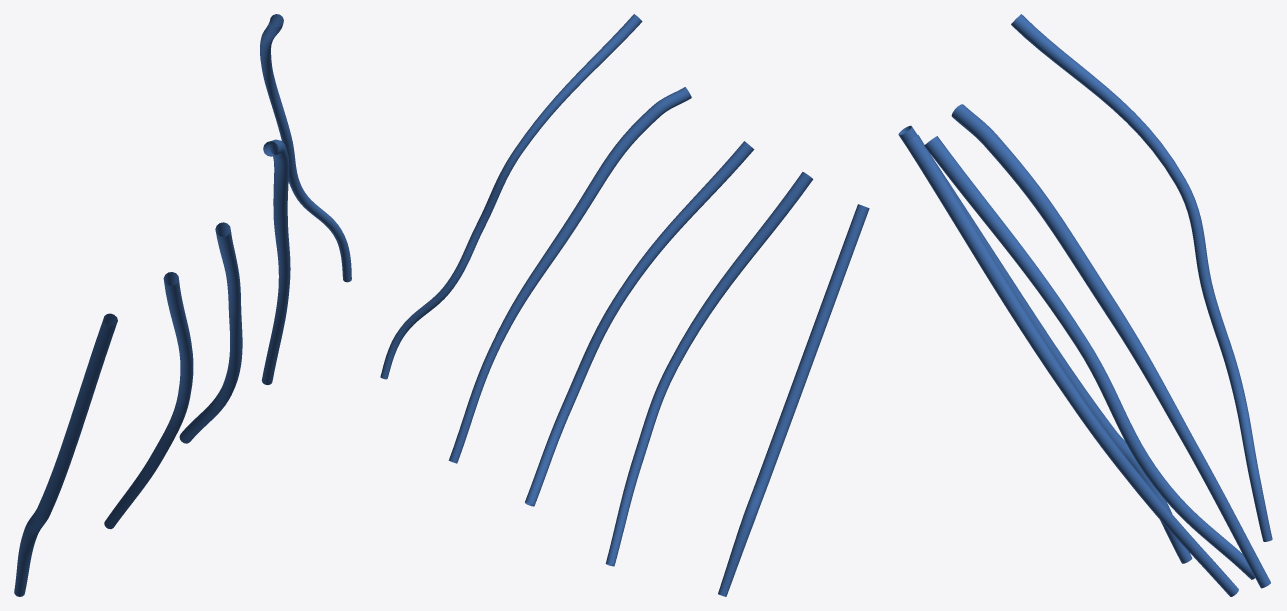
The picture shows the model from 3 angles, left to right: view 1: azimuth 30°, elevation 25°; view 2: azimuth 150°, elevation 25°; view 3: azimuth 270°, elevation 25°; orthographic projection. The views are drawn at different scales.
Visible parts, largest first — view 1: 左侧跖背静脉; view 2: 左侧跖背静脉; view 3: 左侧跖背静脉.
Boxes of the visible parts, box(x1,y1,x2,y2) form: 左侧跖背静脉: box(14, 14, 351, 596); 左侧跖背静脉: box(380, 14, 869, 596); 左侧跖背静脉: box(898, 14, 1272, 596).
Bounding box in the file's own units: 0.09 × 0.1233 × 0.0649.
